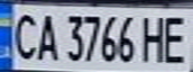3: (60, 11, 84, 62)
6: (115, 11, 142, 64), (100, 11, 121, 63)
7: (78, 11, 103, 63)
A: (30, 10, 60, 62)
C: (6, 9, 42, 62)
E: (157, 11, 193, 64)
H: (136, 12, 172, 64)
